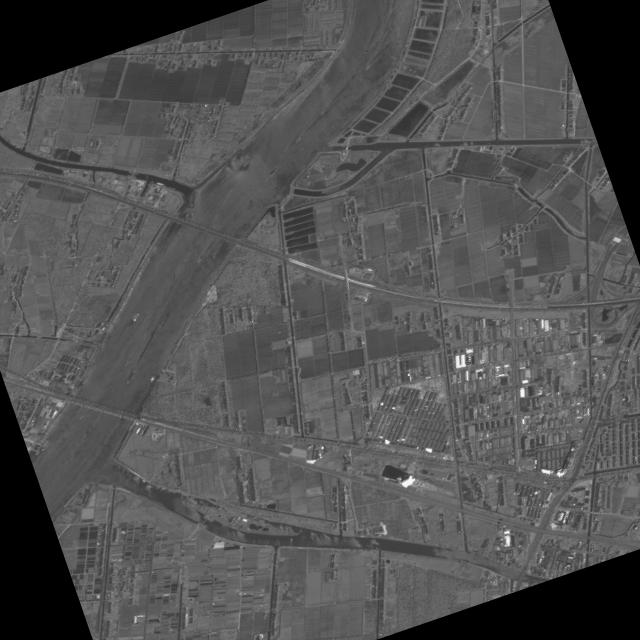ship: (33, 439, 48, 456), (124, 369, 135, 384), (266, 167, 277, 176), (219, 173, 227, 182), (359, 50, 367, 58), (194, 256, 202, 264), (77, 413, 86, 420), (241, 160, 250, 167), (240, 159, 249, 166), (363, 63, 371, 70), (319, 107, 327, 114), (263, 178, 271, 185), (132, 313, 138, 322), (143, 485, 153, 490), (123, 359, 130, 366), (372, 49, 379, 56), (277, 152, 284, 159), (40, 444, 47, 451), (130, 313, 136, 321), (42, 444, 48, 452), (390, 0, 395, 9), (143, 487, 152, 492), (154, 182, 165, 186), (376, 38, 382, 45), (382, 17, 387, 25), (132, 476, 140, 481), (146, 180, 152, 186), (294, 137, 300, 143), (231, 181, 237, 187), (179, 493, 188, 497), (184, 211, 189, 218), (134, 475, 141, 480), (167, 489, 175, 493), (166, 491, 174, 495), (131, 478, 139, 482), (146, 483, 154, 487), (144, 186, 149, 192), (147, 181, 153, 186), (185, 212, 189, 219), (187, 213, 191, 220), (188, 213, 192, 219), (141, 191, 145, 197), (158, 490, 166, 493), (159, 489, 167, 492), (168, 187, 175, 190), (189, 496, 196, 499), (160, 487, 167, 490), (146, 485, 153, 488), (145, 309, 149, 314), (151, 376, 155, 381), (149, 377, 153, 382), (162, 185, 168, 188), (154, 334, 158, 338), (381, 0, 385, 3), (140, 480, 144, 483), (141, 479, 145, 482)
